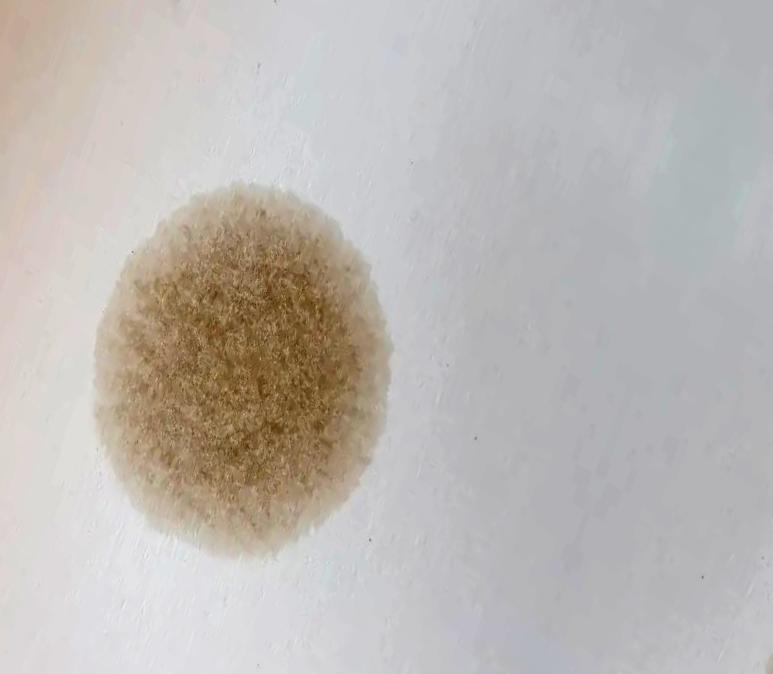stain: (77, 171, 411, 572)
